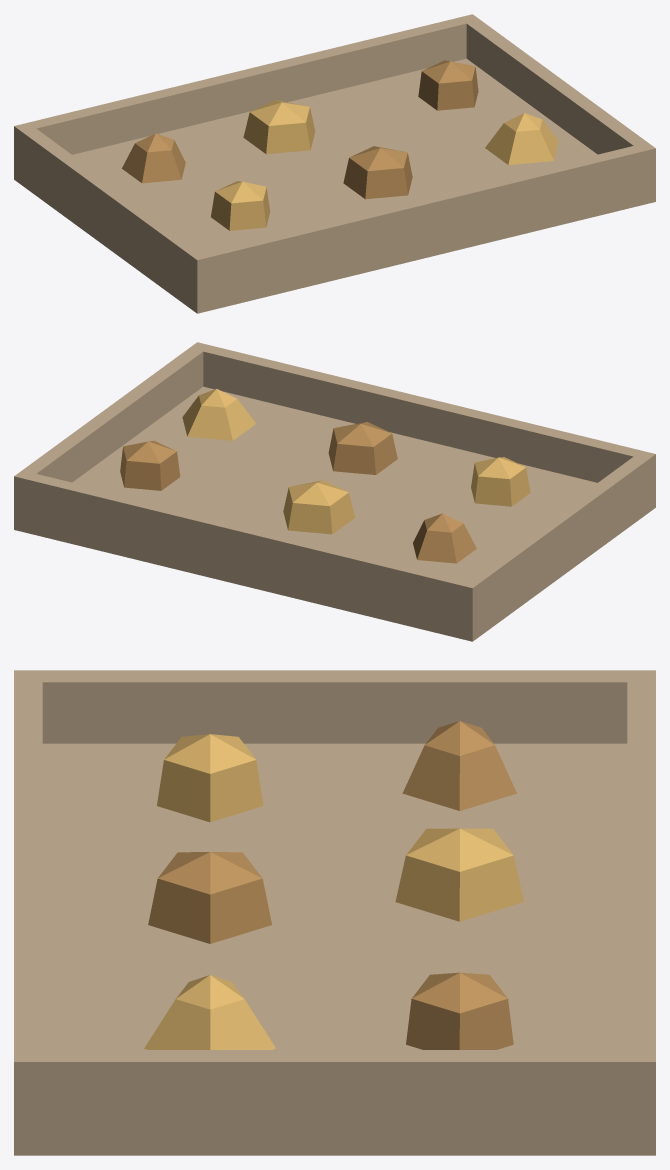
The model's file is prop-gum-tray-pf1.fbx.
The picture shows the model from 3 angles, top to bottom: view 1: azimuth 30°, elevation 25°; view 2: azimuth 150°, elevation 25°; view 3: azimuth 270°, elevation 25°; orthographic projection. The views are drawn at different scales.
Visible parts, largest first — view 1: prop-gum-tray-pf1; view 2: prop-gum-tray-pf1; view 3: prop-gum-tray-pf1.
Boxes of the visible parts, box(x1,y1,x2,y2) form: prop-gum-tray-pf1: box(14, 14, 655, 313); prop-gum-tray-pf1: box(14, 342, 655, 641); prop-gum-tray-pf1: box(14, 670, 655, 1155).
Size of the model in its own units: 26 by 3.6 by 18.
